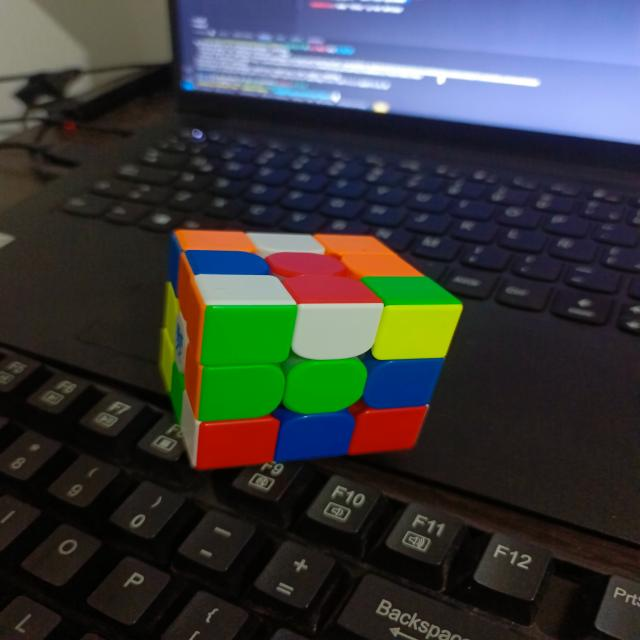rubik: (157, 226, 464, 469)
